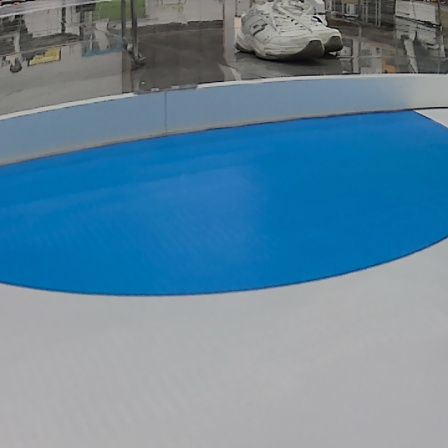blue_base: (0, 108, 447, 298)
